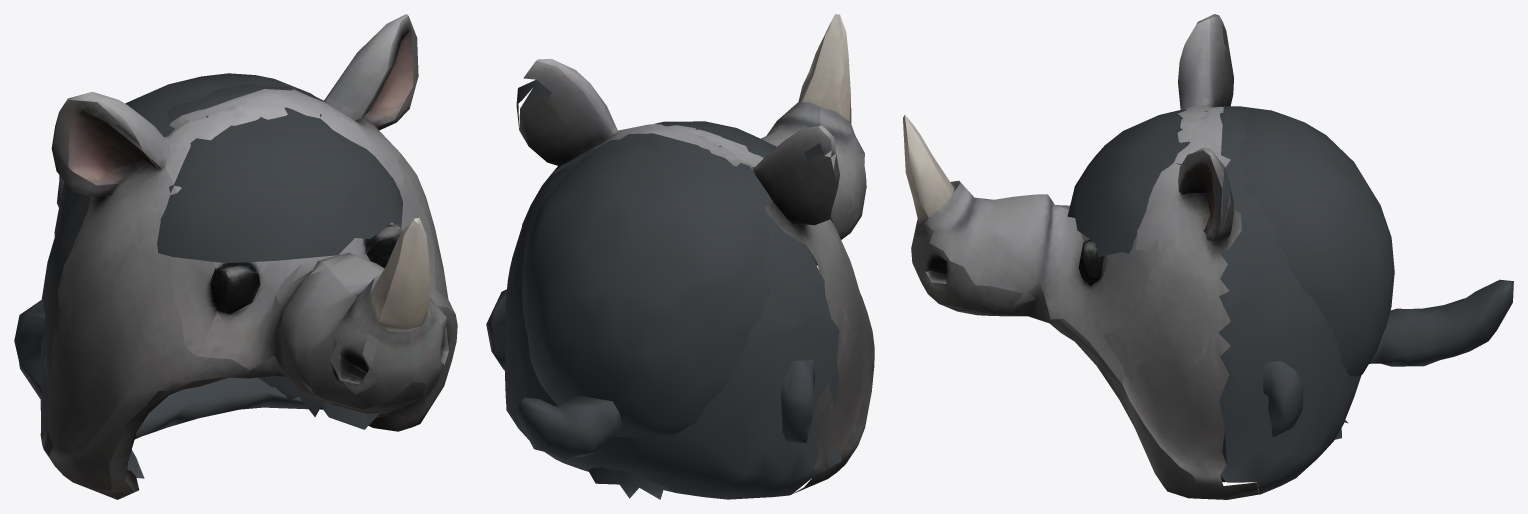
File: rhino.glb
3 renders of one model, left to right at view 1: azimuth 30°, elevation 25°; view 2: azimuth 150°, elevation 25°; view 3: azimuth 270°, elevation 25°, orthographic. The views are drawn at different scales.
Visible parts, largest first — view 1: geometry_0, HoodAnatomicalLining; view 2: geometry_0, HoodAnatomicalLining; view 3: geometry_0, HoodAnatomicalLining.
Part boxes in pixels (x1,y1,x2,y2): geometry_0: (40,14,457,499); HoodAnatomicalLining: (14,73,402,478); geometry_0: (504,14,874,499); HoodAnatomicalLining: (486,121,816,499); geometry_0: (903,14,1513,499); HoodAnatomicalLining: (1067,106,1394,463).
Size of the model in its own units: 0.4714 by 0.4806 by 0.7492.
Materials: 2 (1 with a texture image).
